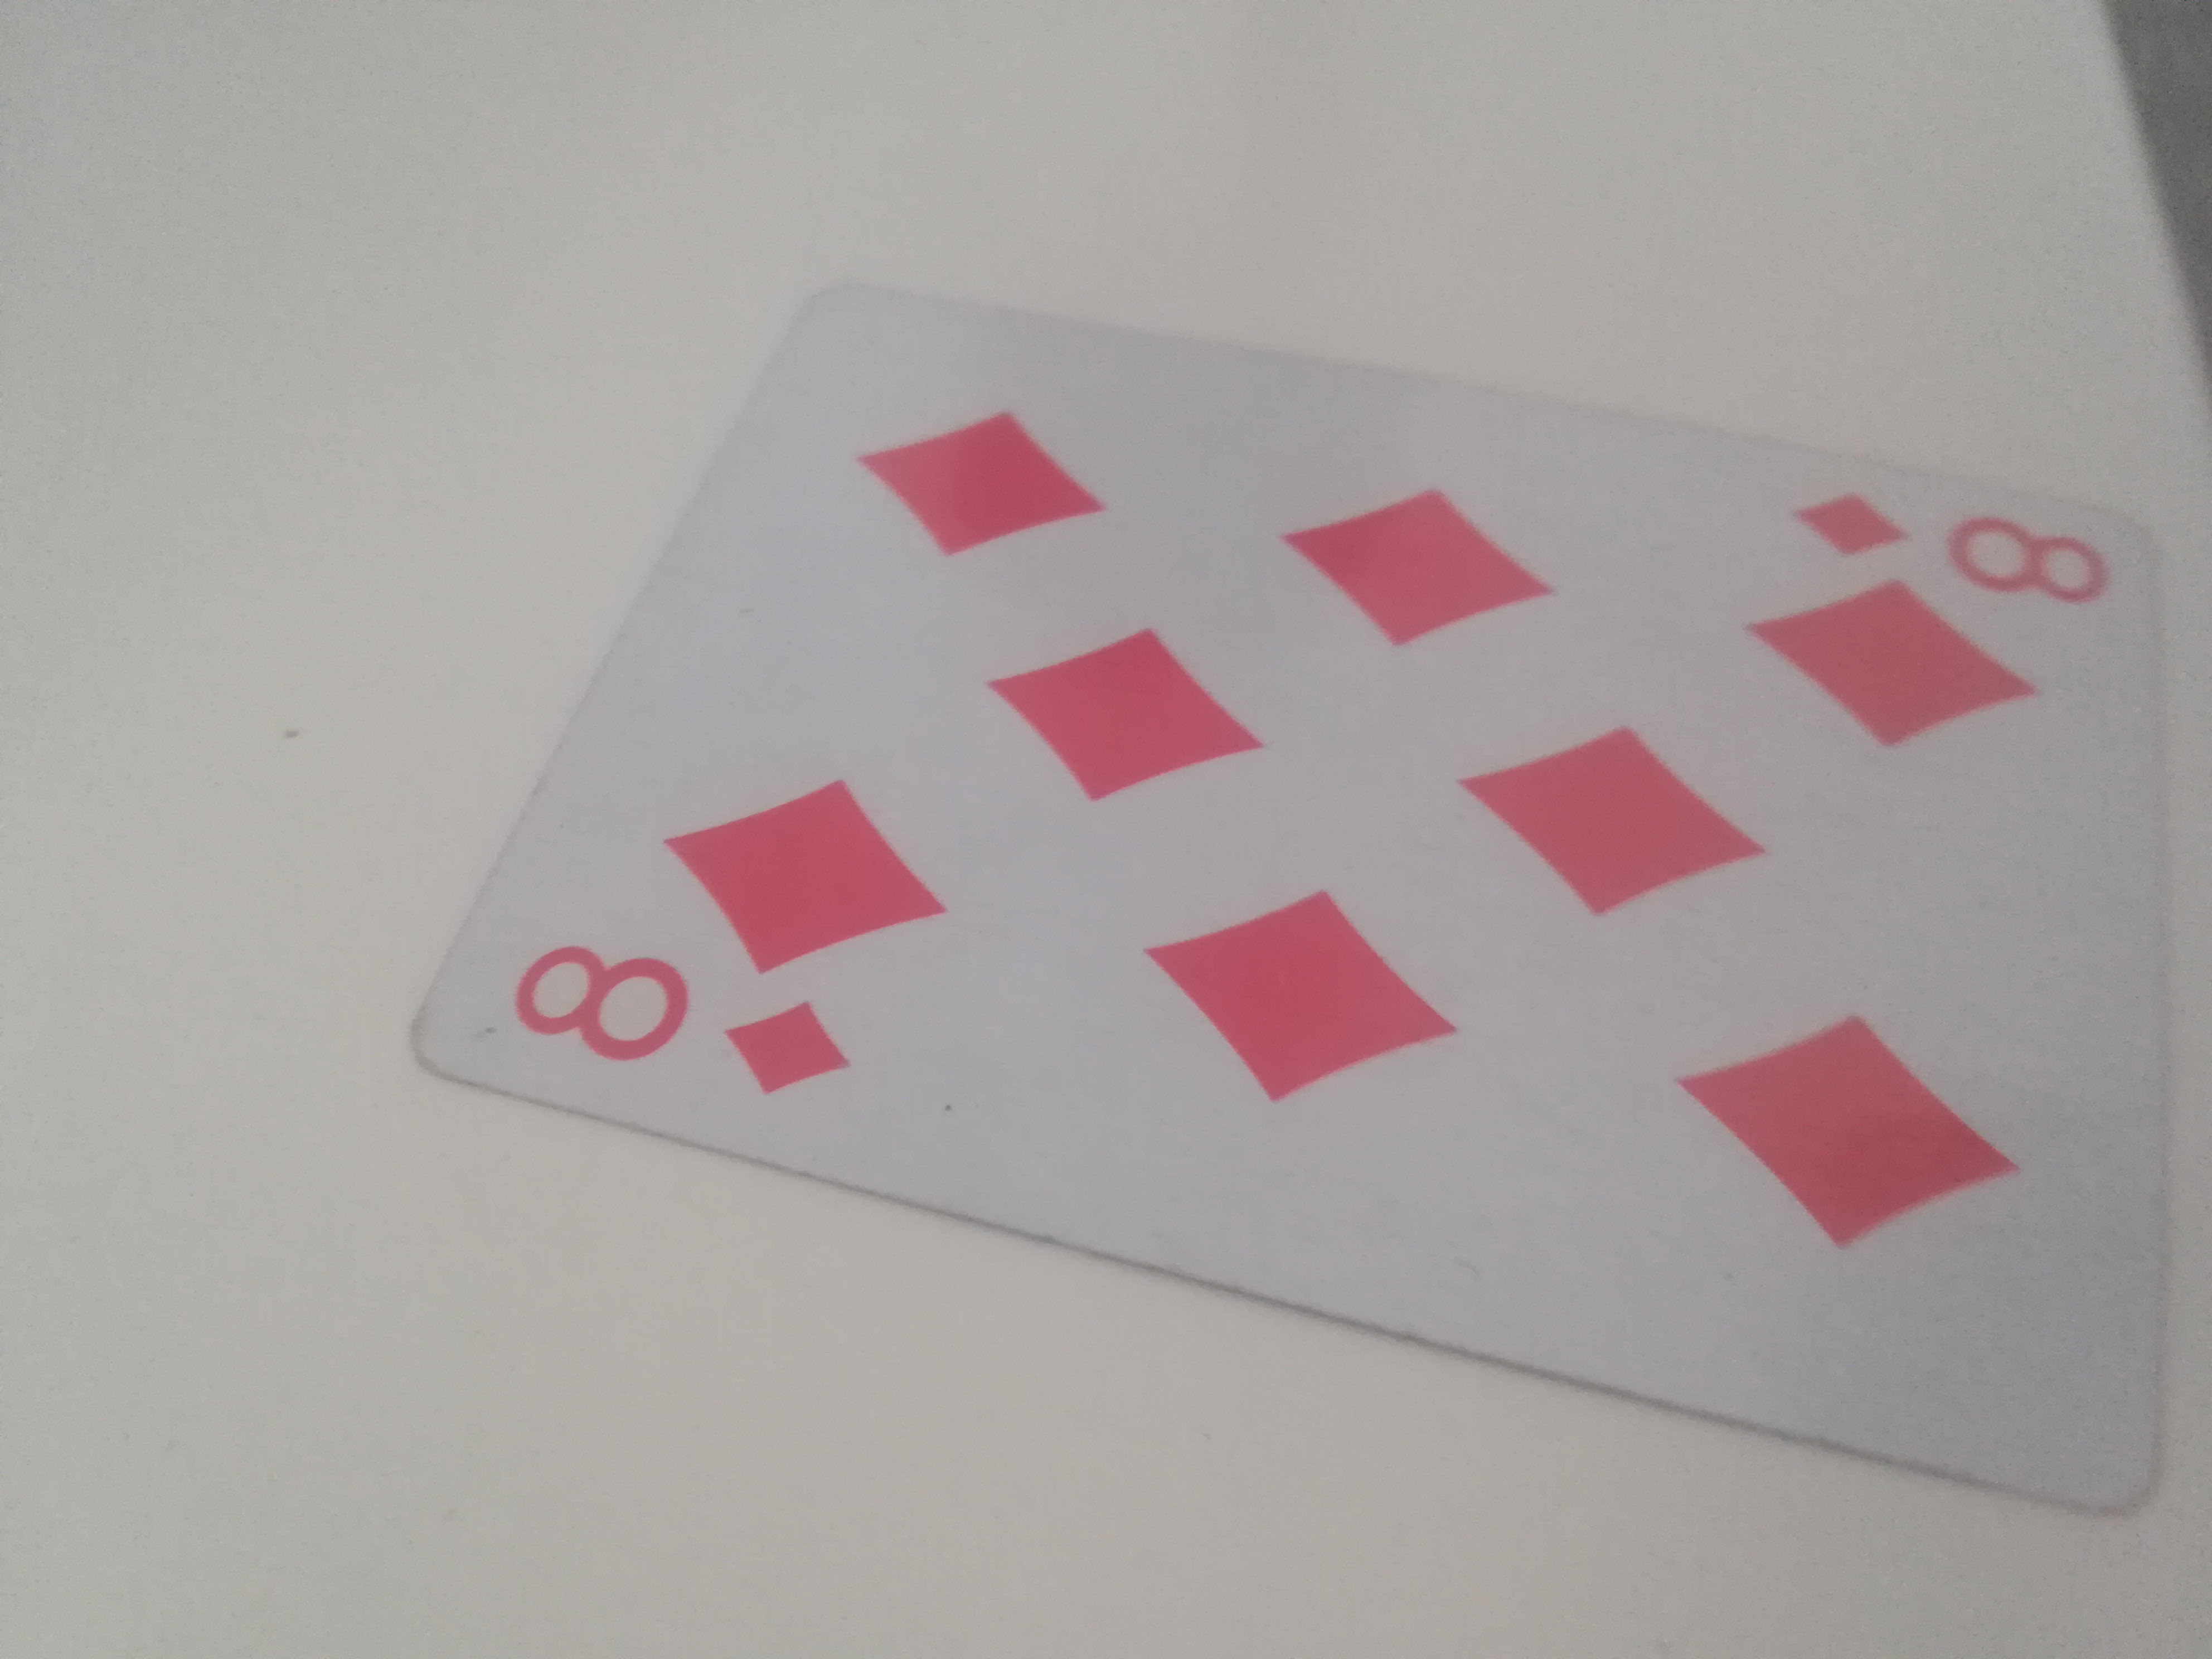8D: (411, 281, 2167, 1549)
